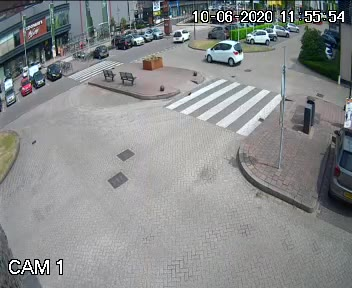car: (201, 39, 246, 69), (170, 27, 194, 45)
